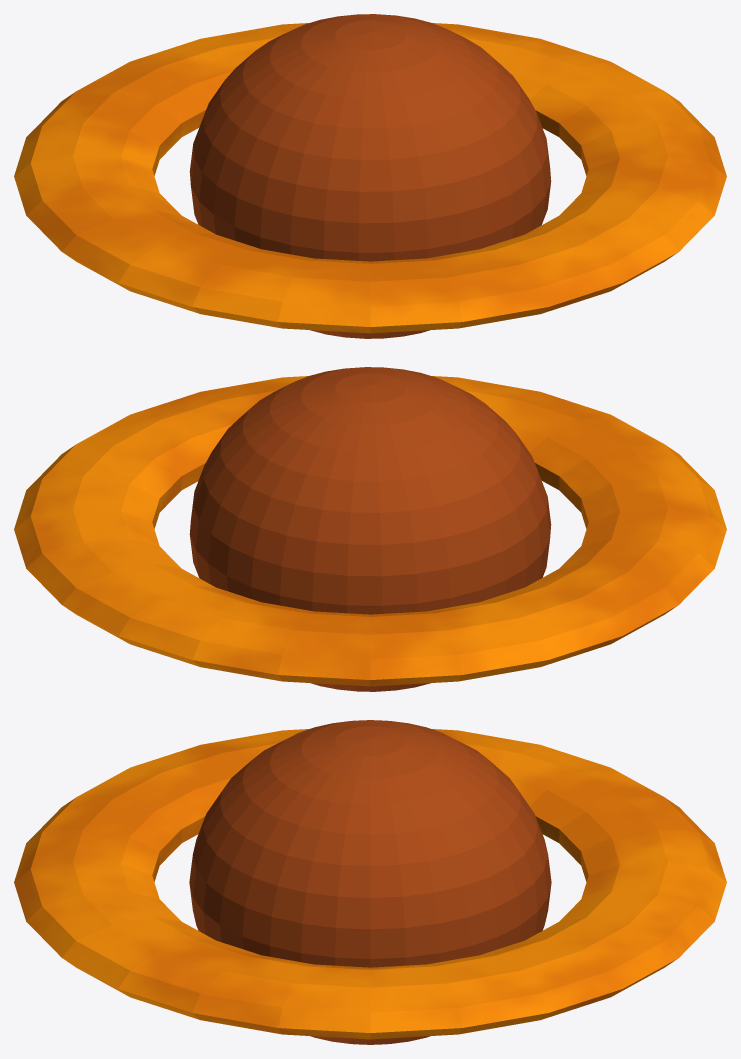
Rendered from planet.obj.
3 views of the same model, one above another, from view 1: azimuth 30°, elevation 25°; view 2: azimuth 150°, elevation 25°; view 3: azimuth 270°, elevation 25° (orthographic).
Parts seen in each view (by area): view 1: Torus; view 2: Torus; view 3: Torus.
Part boxes in pixels (box(x1,y1,x2,y2)): Torus: box(14, 14, 726, 338); Torus: box(14, 367, 726, 691); Torus: box(14, 720, 726, 1044).
Size of the model in its own units: 4.6 by 2.05 by 4.6.
2 materials, 2 textured.
